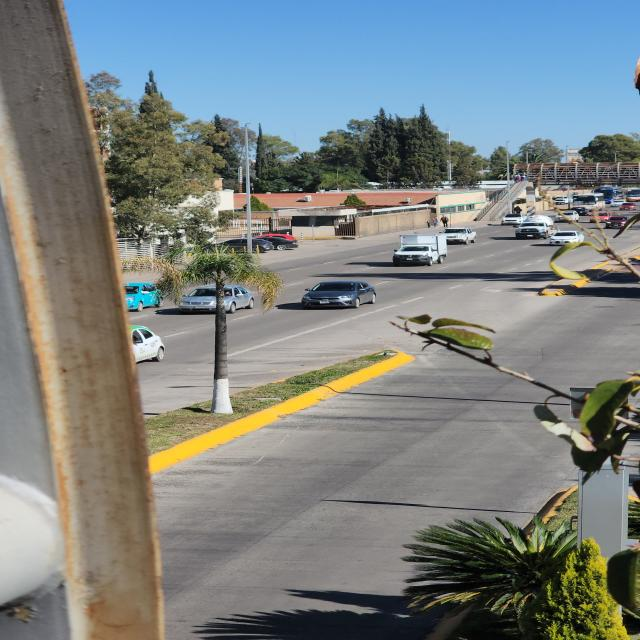Auto: (302, 279, 376, 309), (181, 284, 256, 313), (132, 325, 164, 364), (125, 283, 162, 312), (255, 234, 299, 251), (513, 221, 548, 240), (440, 228, 476, 245), (546, 230, 581, 244)
